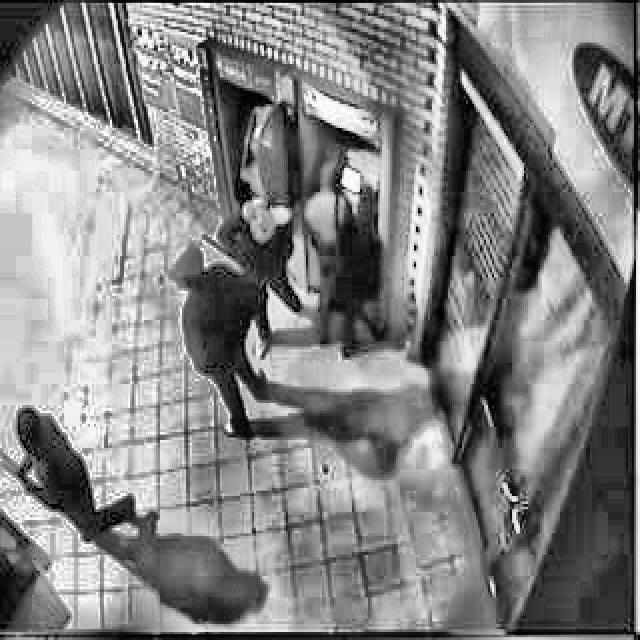burglary: (164, 92, 386, 440), (0, 397, 143, 547)
